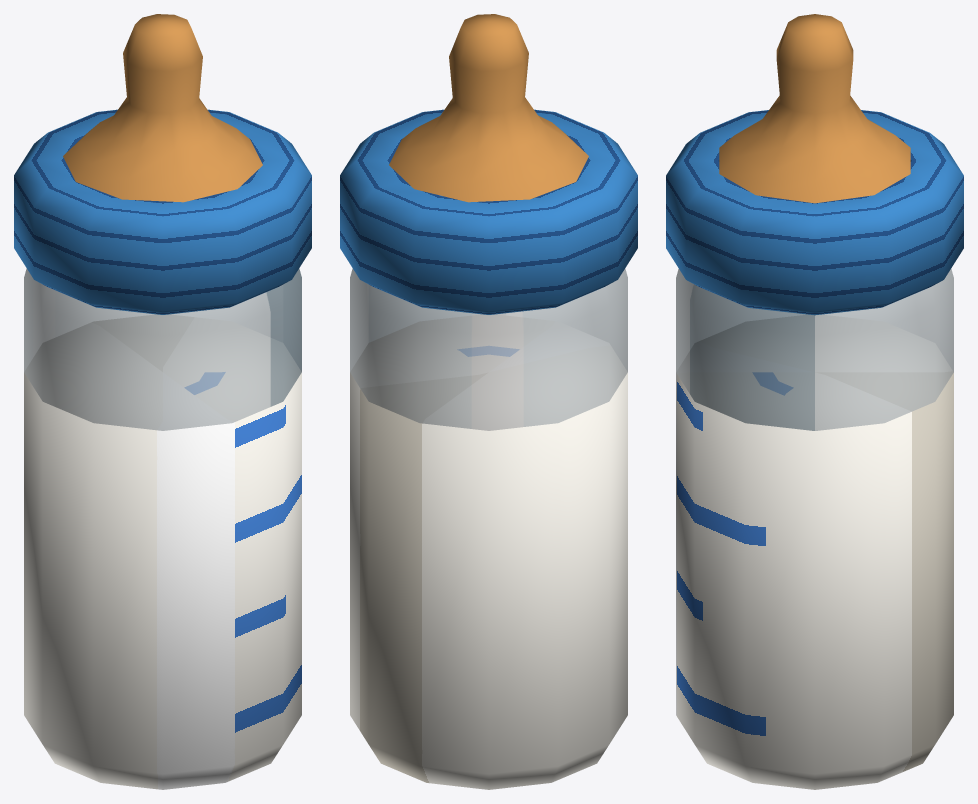
File: moreA-babyBottle.glb
The picture shows the model from 3 angles, left to right: view 1: azimuth 30°, elevation 25°; view 2: azimuth 150°, elevation 25°; view 3: azimuth 270°, elevation 25°; orthographic projection.
Visible parts, largest first — view 1: moreA.babyBottle; view 2: moreA.babyBottle; view 3: moreA.babyBottle.
Boxes of the visible parts, x1,y1,x2,y2 form: moreA.babyBottle: (14,14,311,789); moreA.babyBottle: (340,14,637,789); moreA.babyBottle: (666,14,963,789).
Size of the model in its own units: 0.7199 by 1.91 by 0.7199.
4 materials, 4 textured.
